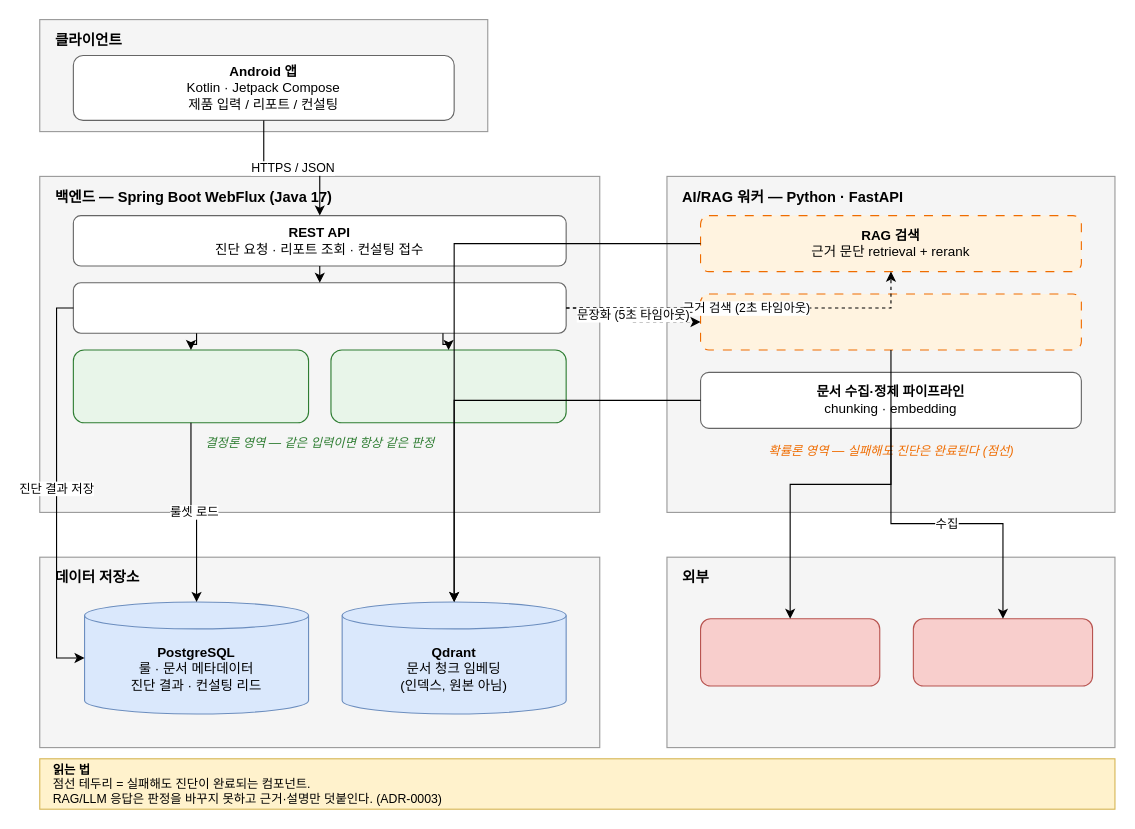
This 1135x829 diagram has some shape labels left out. Here are the shapes that lost their labels. From the top down, the centre of each, then its label:
[319,307]: Diagnosis Orchestrator 규칙 → 근거 → 점수 → 문장화
[890,321]: 리포트 문장화 LLM 프롬프트 오케스트레이션
[190,386]: Rule Engine 인증 후보 1차 식별 서류 체크
[448,386]: Scoring 가중치 기반 준비도 점수
[789,652]: 상용 LLM API
[1002,652]: 공식 인증자료 Safety Korea · KTC · KTR
